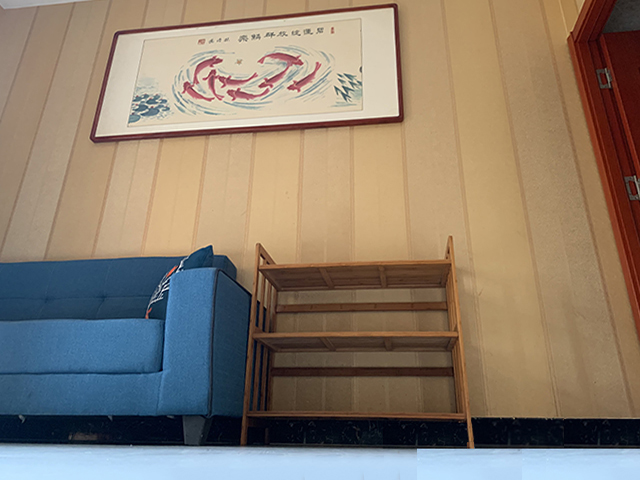sofa: (1, 241, 268, 444)
